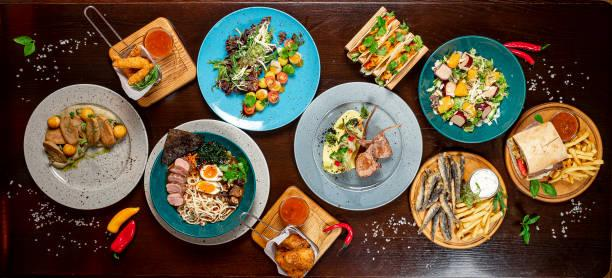Braised Crucian Carp: (292, 81, 419, 211), (21, 82, 147, 210), (196, 5, 320, 131), (143, 118, 267, 243), (419, 35, 528, 144), (504, 103, 603, 203), (409, 150, 508, 248)
